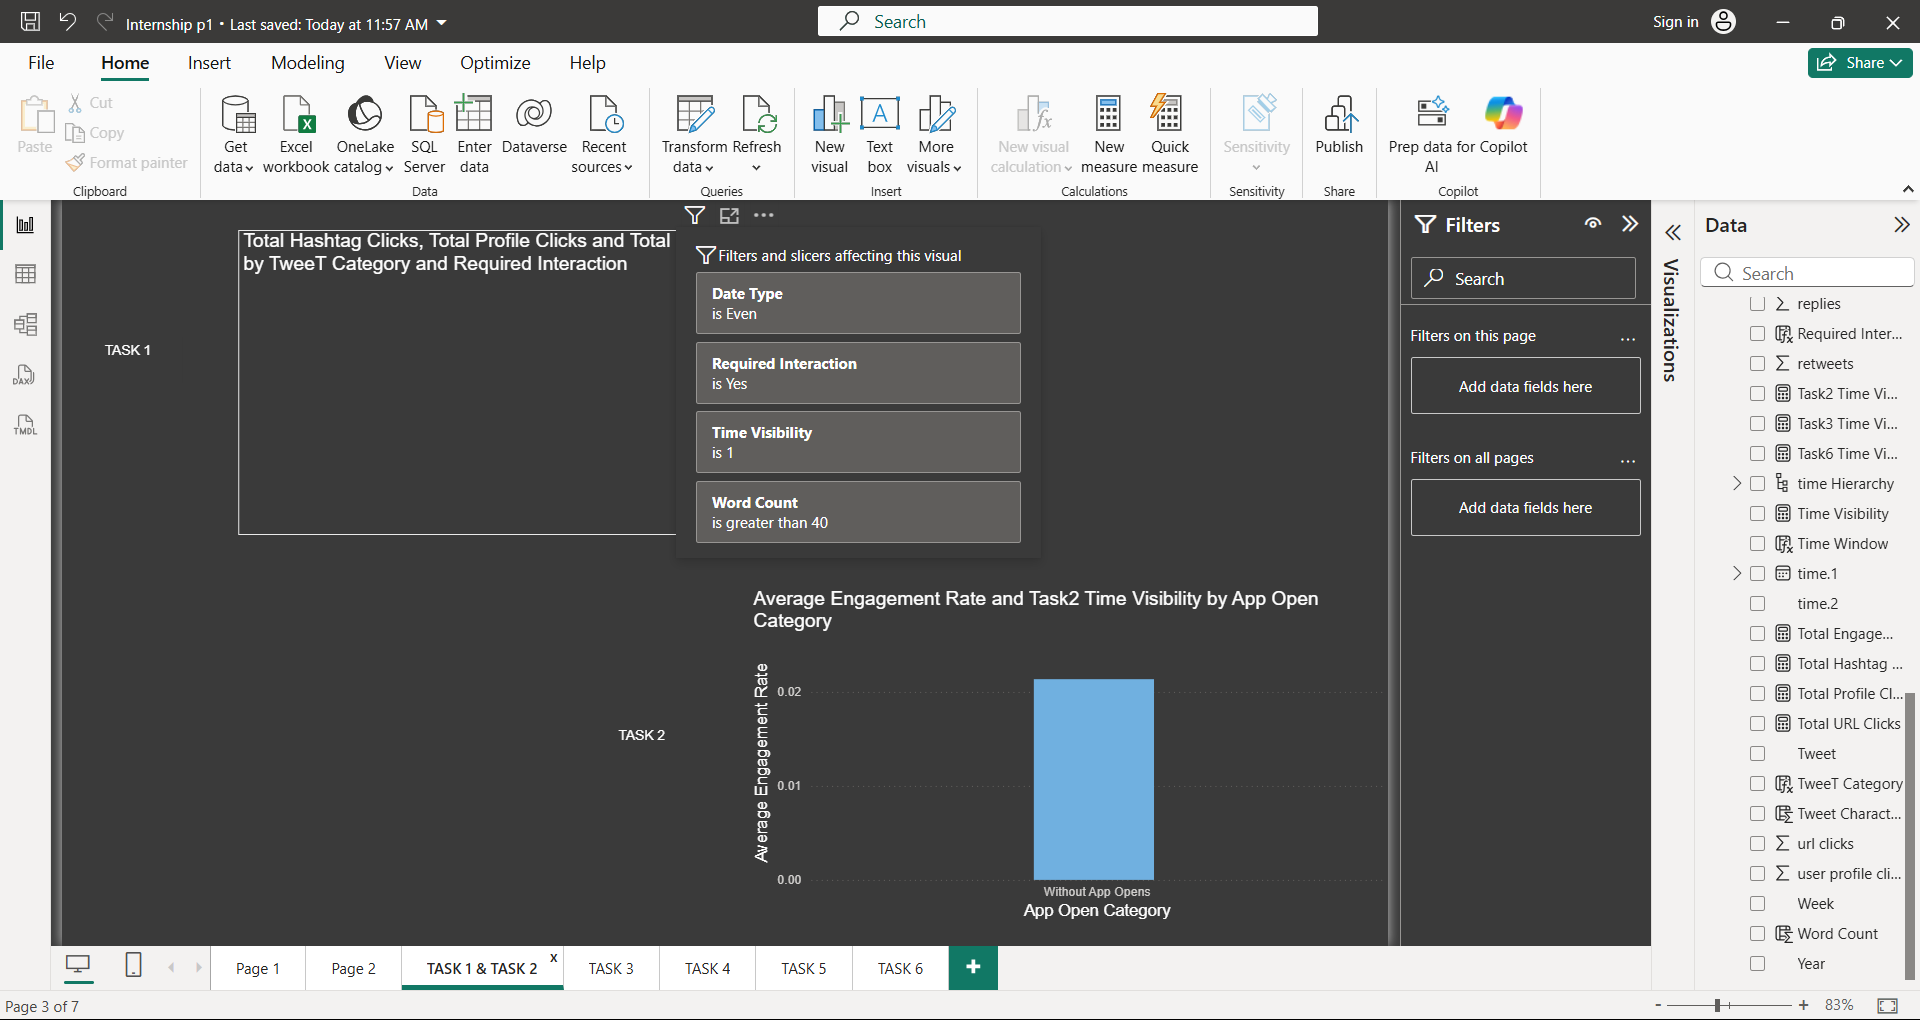

The dashboard page shown, as its layout file describes it:
{"tool":"powerbi","page":{"name":"TASK 1 & TASK 2","canvas":[1280,720],"ordinal":2},"visuals":[{"type":"clusteredBarChart","fields":{"Category":["SocialMedia (1).TweeT Category"],"Y":["SocialMedia (1).Total Hashtag Clicks","SocialMedia (1).Total Profile Clicks","SocialMedia (1).Total URL Clicks"],"Rows":["SocialMedia (1).Required Interaction"]},"box":[170,28.8,522.5,295],"z":0},{"type":"clusteredColumnChart","fields":{"Category":["SocialMedia (1).App Open Category"],"Y":["SocialMedia (1).Average Engagement Rate"]},"box":[662.5,373.8,617.5,325],"z":1000},{"type":"textbox","box":[36.2,132.5,80,43.8],"z":2000},{"type":"textbox","box":[532.5,503.8,65,32.5],"z":3000}]}

Visuals, with their boxes on the page's 1280x720 design canvas (x1, y1, x2, y2). These are canvas units, not pixel positions in the 1920x1020 screenshot, which may show the page scaled, cropped or inside an application window:
clusteredBarChart - SocialMedia (1).TweeT Category x SocialMedia (1).Total Hashtag Clicks: select_region(170, 29, 692, 324)
clusteredColumnChart - SocialMedia (1).App Open Category x SocialMedia (1).Average Engagement Rate: select_region(662, 374, 1280, 699)
textbox: select_region(36, 132, 116, 176)
textbox: select_region(532, 504, 598, 536)
